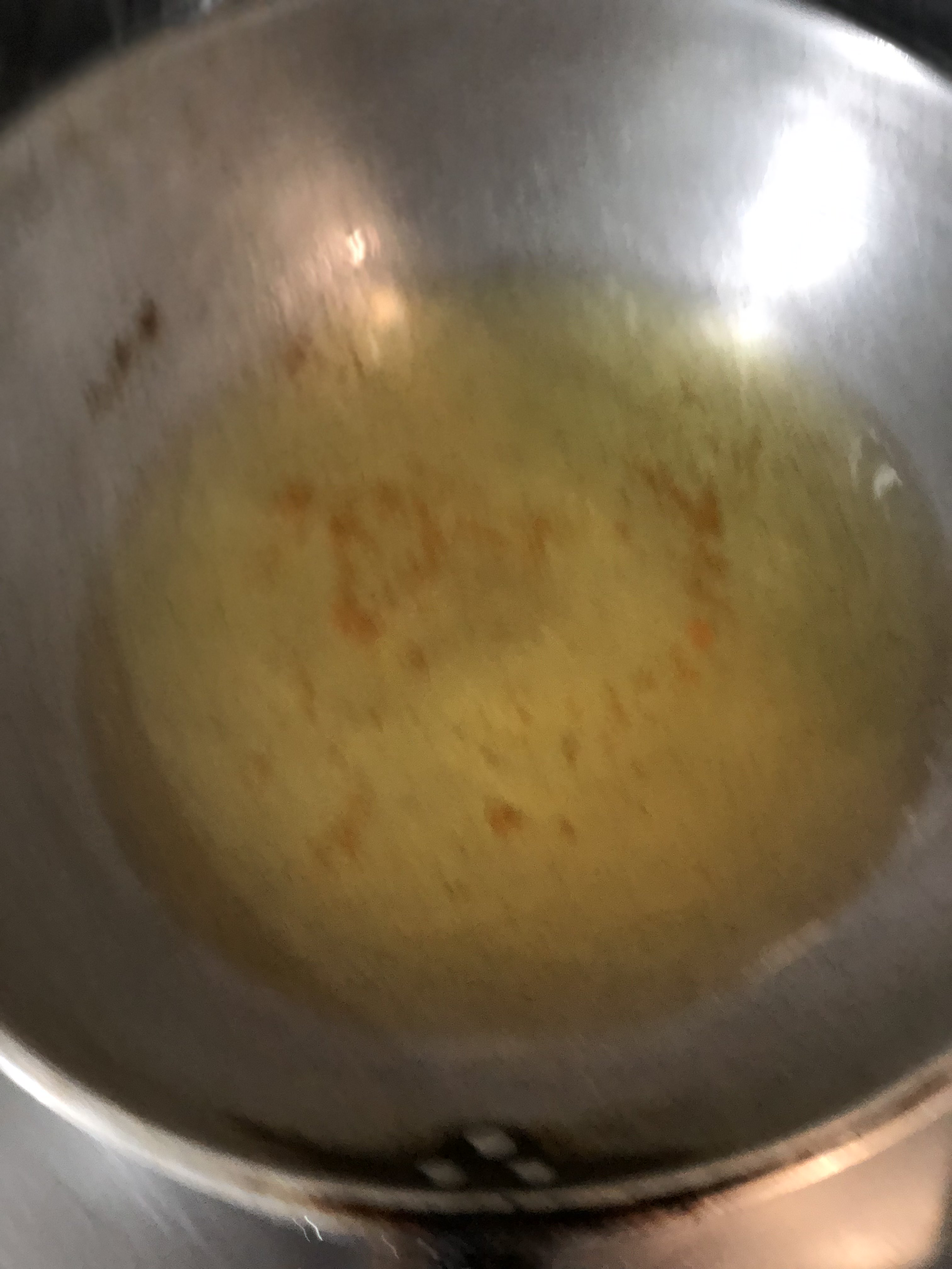reusable: (76, 264, 952, 1035)
